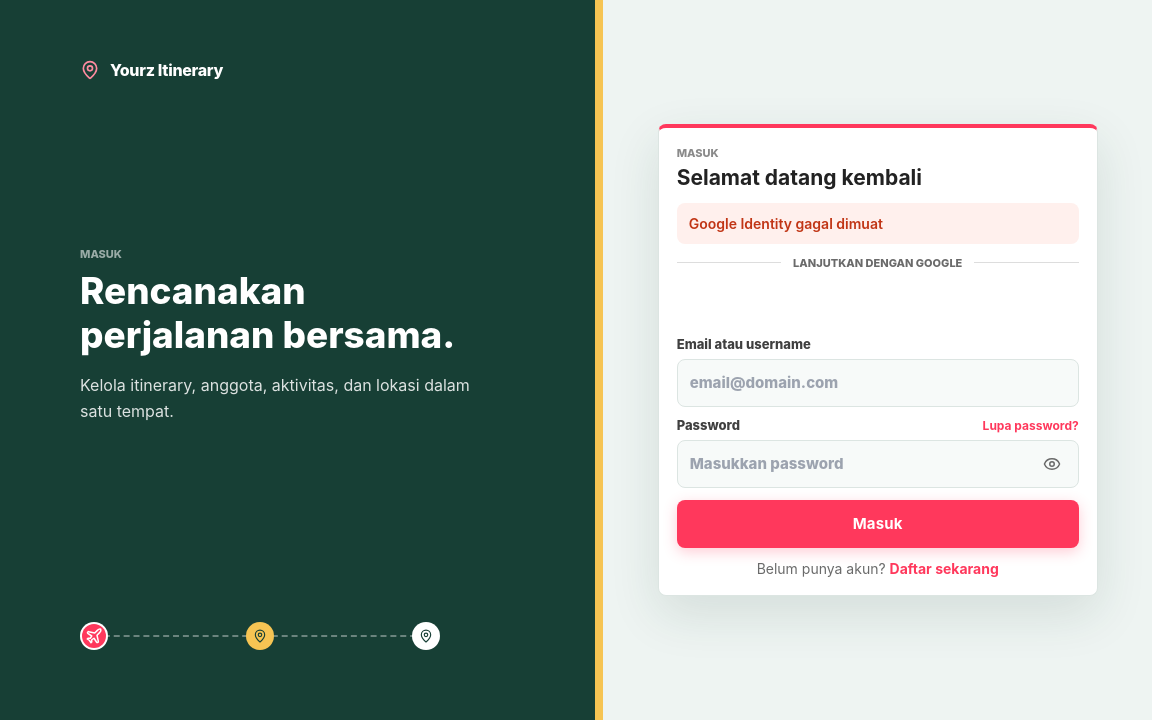
Test case: Login › does not allow whitespace in identifier
Type " zaqi @example.com " into the field labelled "Email atau username".
click(878, 383); type(" zaqi @example.com ")  # box [677,359,1079,407]
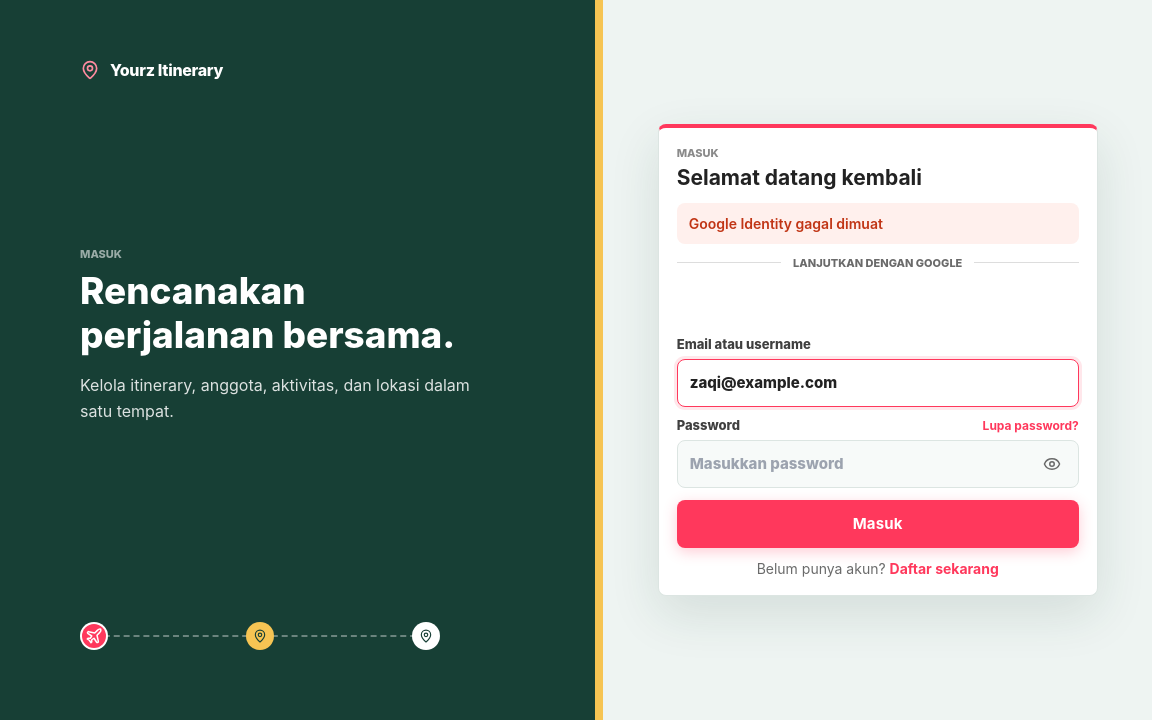
Result: the field labelled "Email atau username" holds "zaqi@example.com" at [677,359,1079,407]
